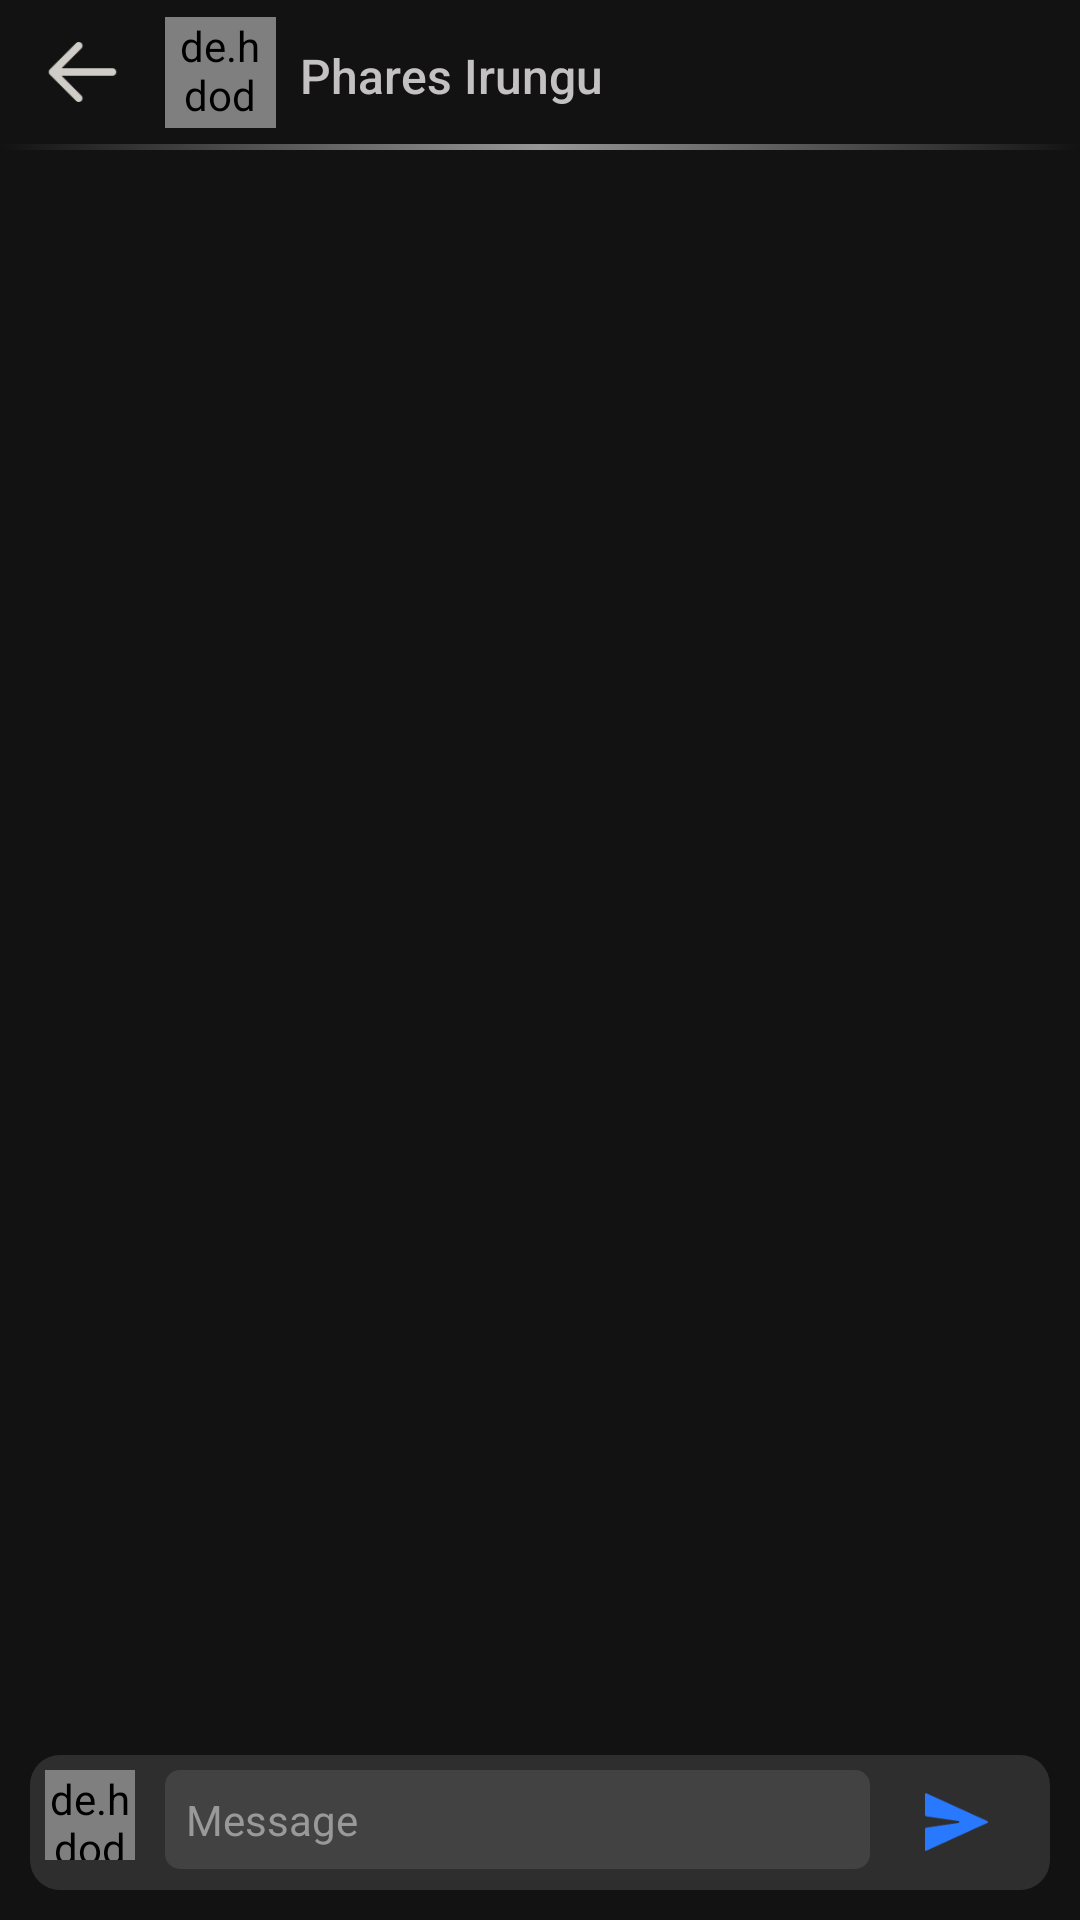

Named icons in this screenshot (1080×1920) and their bounding boxes, (x1, y1, x2, y2):
send horizontal: (925, 1793, 988, 1851)
windows back: (48, 42, 117, 102)
